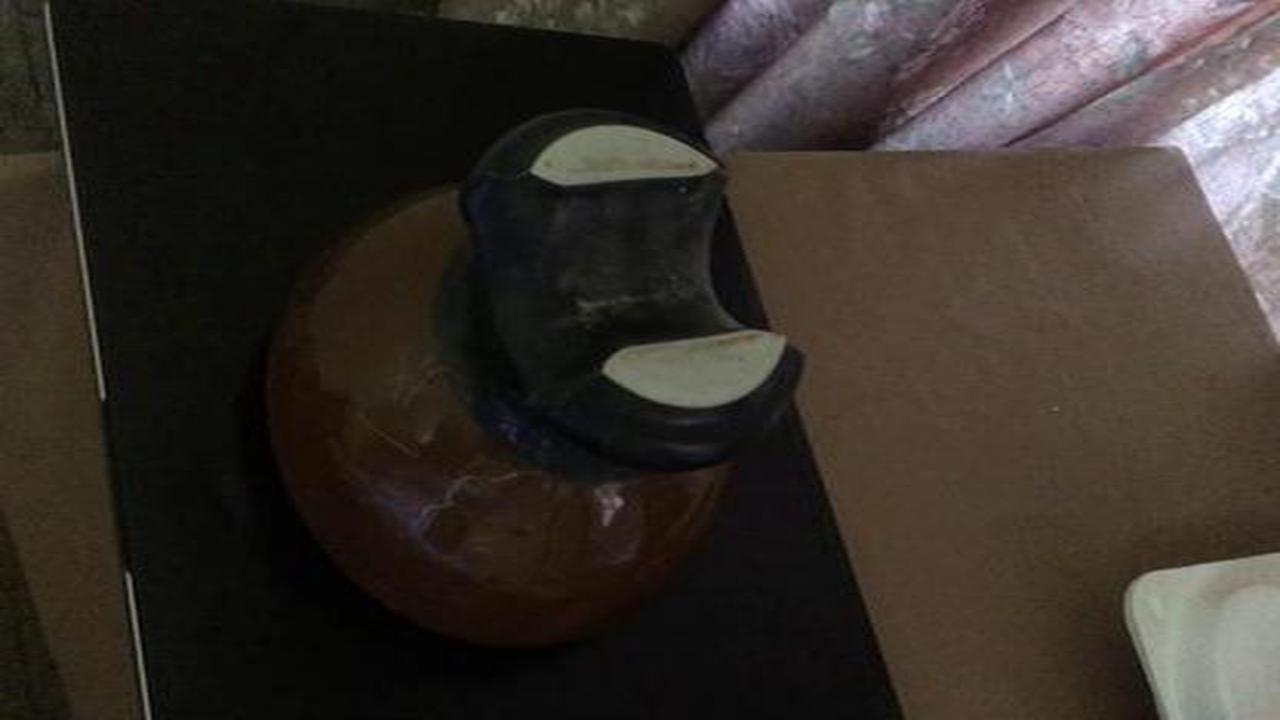insulator_pin: (237, 85, 828, 672)
